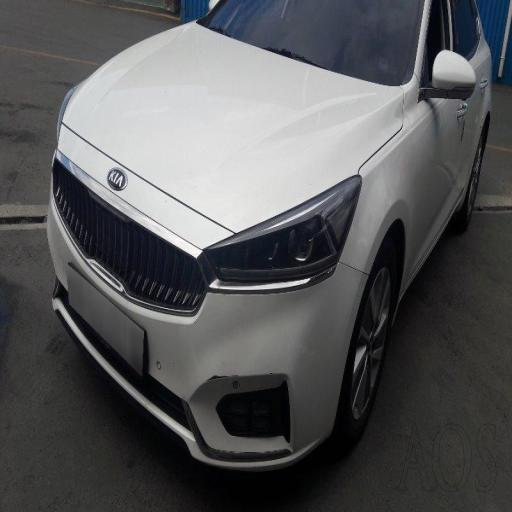scratch: (152, 334, 314, 478)
